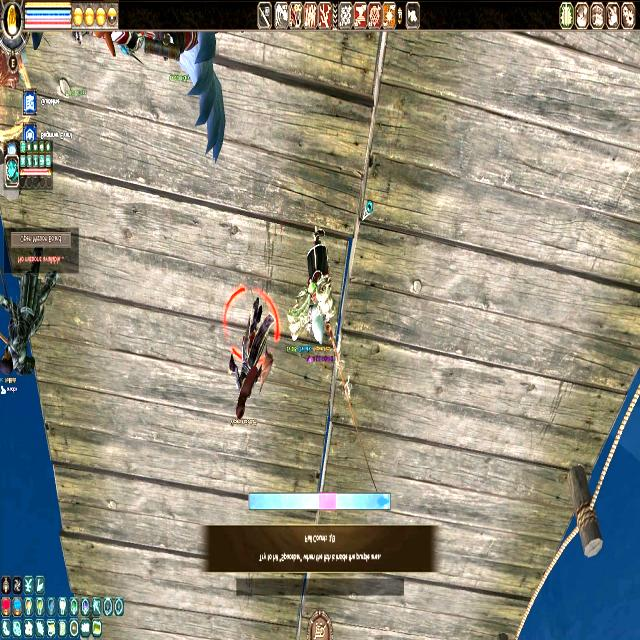fishes: (376, 492, 389, 509)
